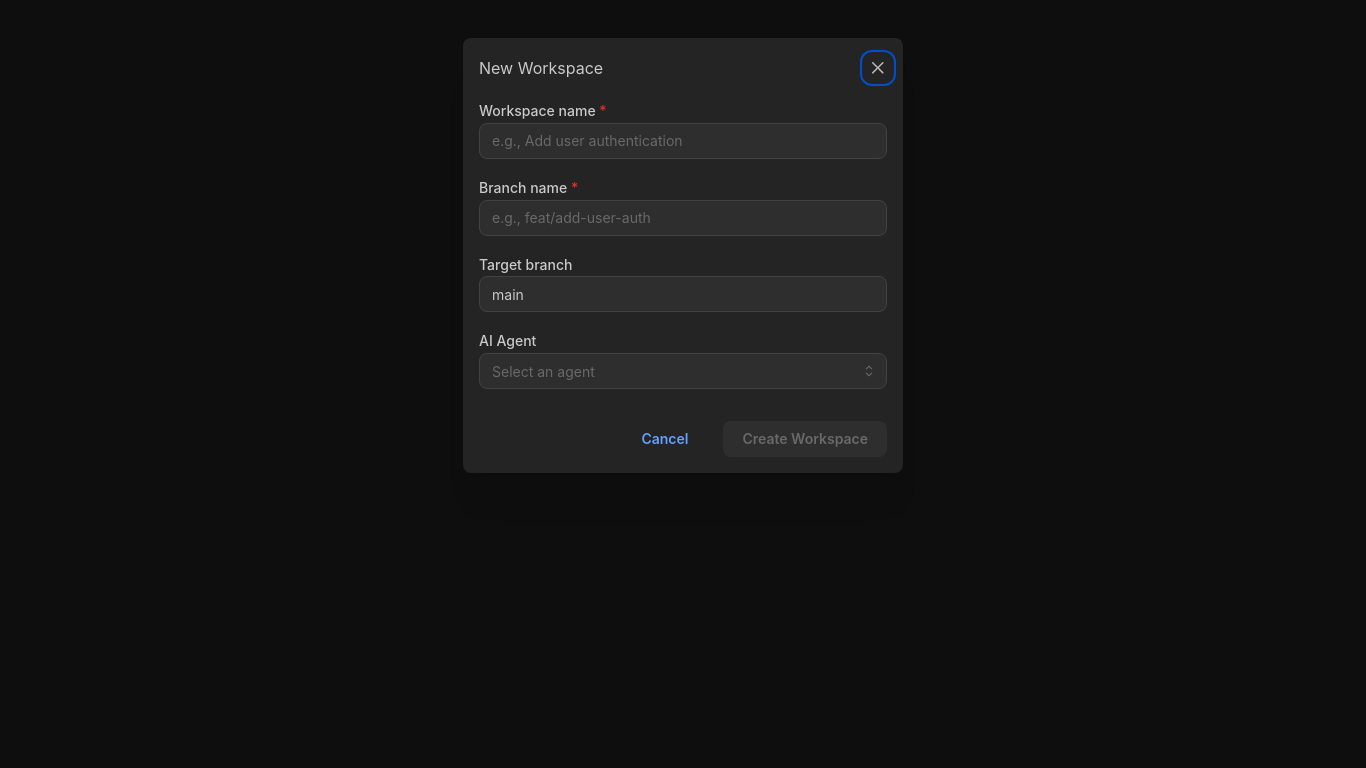
Scenario: WorkspaceCreator › auto-generates branch name from workspace name
Type "Add User Auth" into the field labelled "Workspace name *" at (683, 141), box [479,123,887,159]
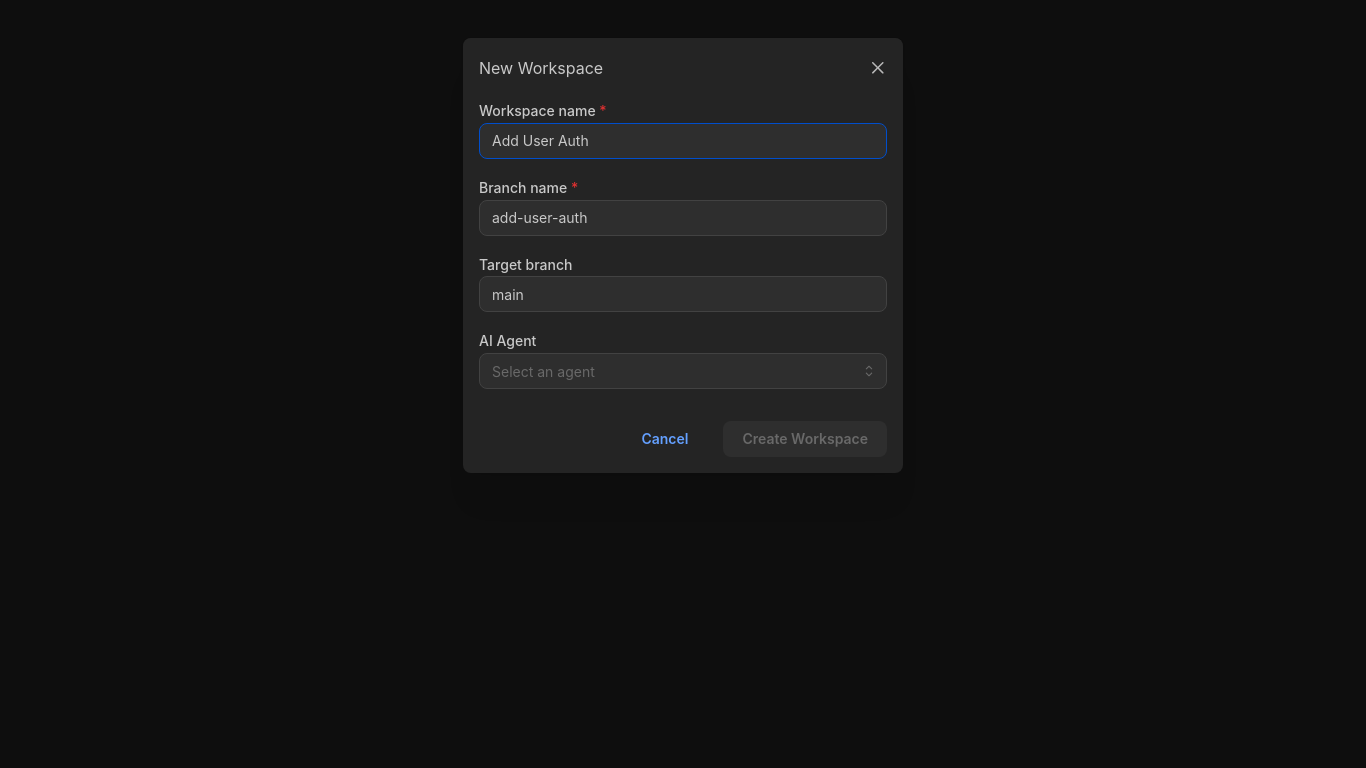
Expected: the field labelled "Branch name *" holds "add-user-auth", [479,200,887,236]
